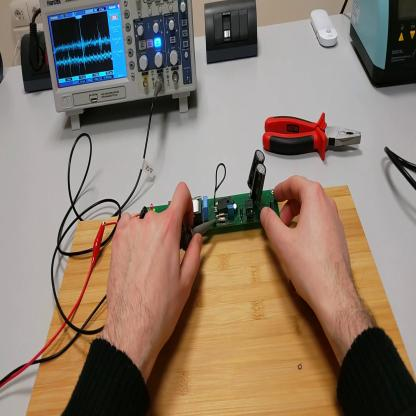hand: (107, 185, 204, 358), (262, 175, 357, 319)
high voltage board: (147, 151, 281, 232)
oscilloscope: (41, 2, 200, 129)
oscilloscope probe tip: (180, 218, 217, 249)
pliers: (261, 112, 362, 163)
socket: (19, 30, 53, 96)
welder station: (352, 3, 415, 87)
working area: (28, 181, 416, 415)
